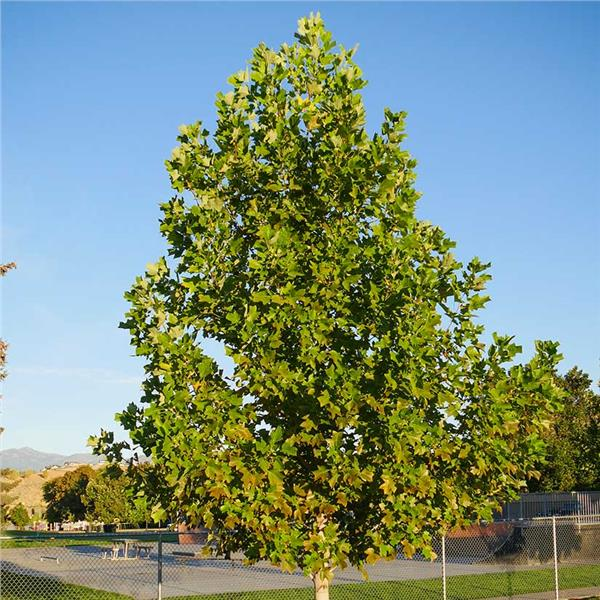tree: (85, 9, 571, 600)
